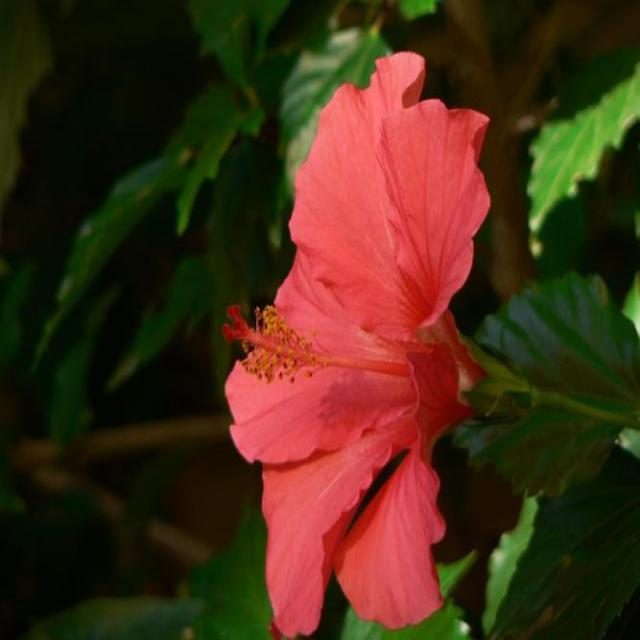hibiscus: (200, 36, 560, 640)
